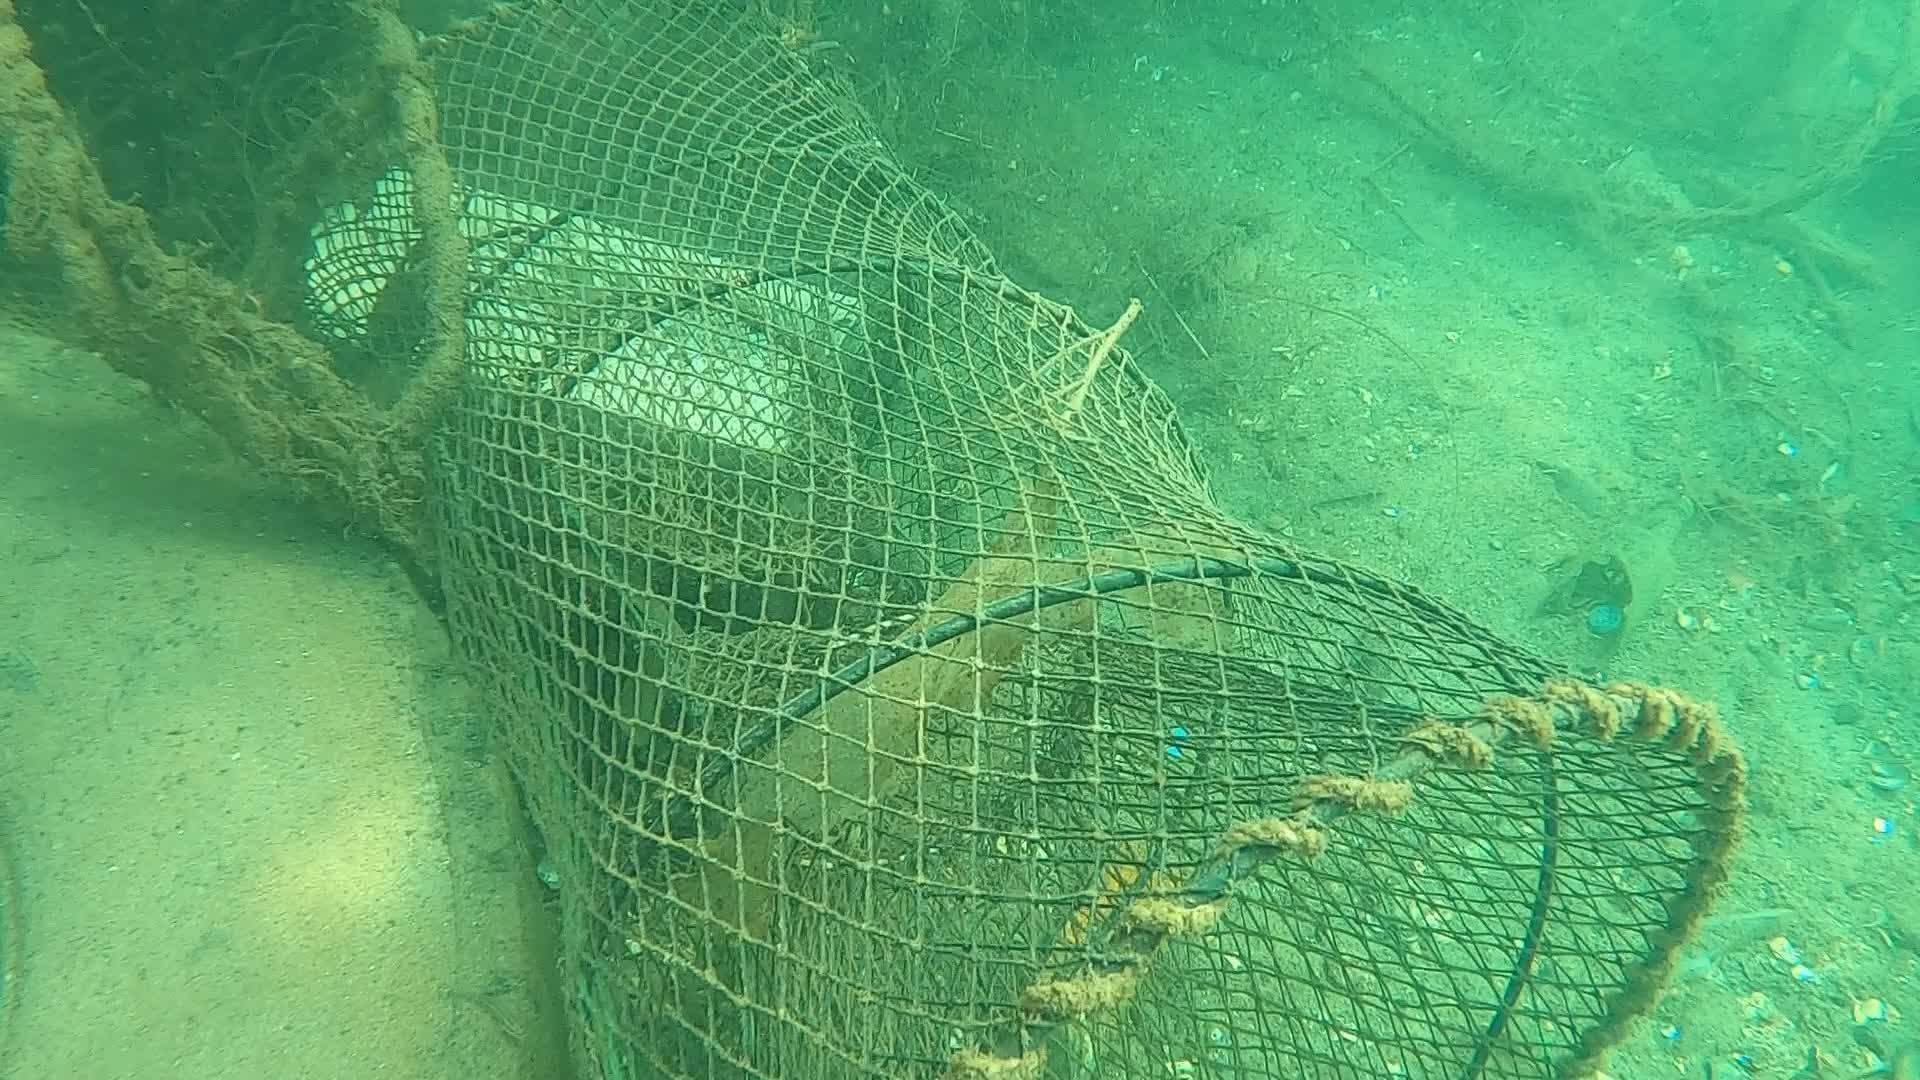spring fish trap: (266, 0, 1749, 1080)
